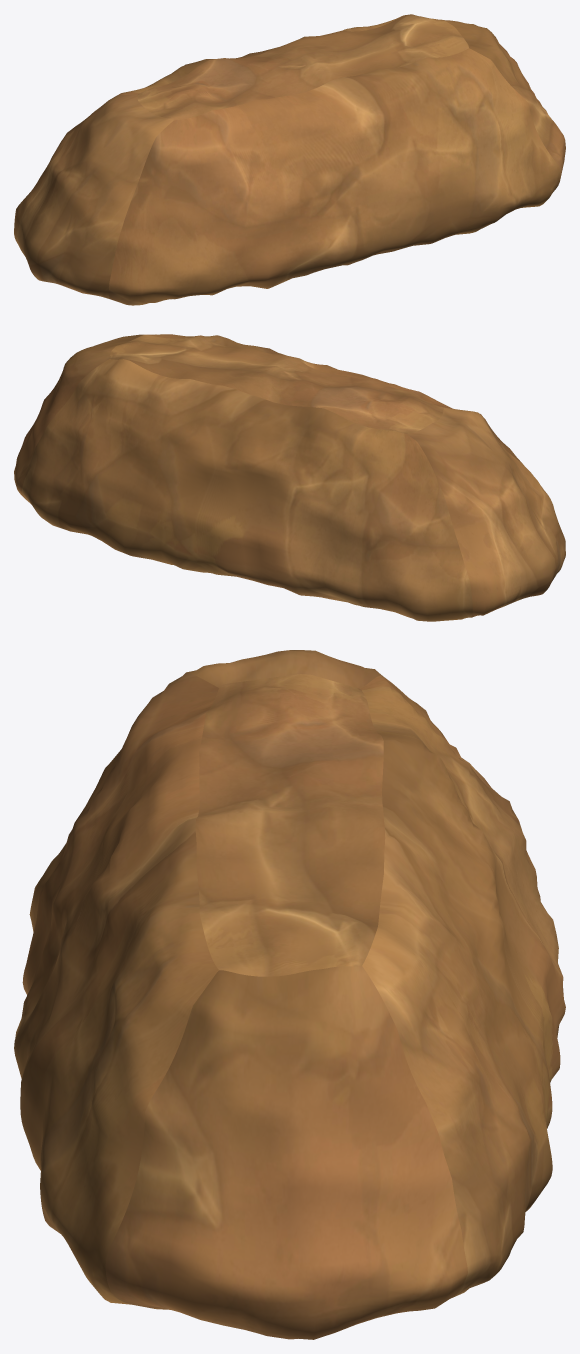
File: islands6.fbx
The picture shows the model from 3 angles, top to bottom: view 1: azimuth 30°, elevation 25°; view 2: azimuth 150°, elevation 25°; view 3: azimuth 270°, elevation 25°; orthographic projection. The views are drawn at different scales.
Parts seen in each view (by area): view 1: Cube.005; view 2: Cube.005; view 3: Cube.005.
Part boxes in pixels (box(x1,y1,x2,y2)): Cube.005: box(14, 14, 565, 305); Cube.005: box(14, 334, 565, 621); Cube.005: box(14, 650, 565, 1339).
Size of the model in its own units: 2467 by 827 by 1149.
1 material, 1 textured.
